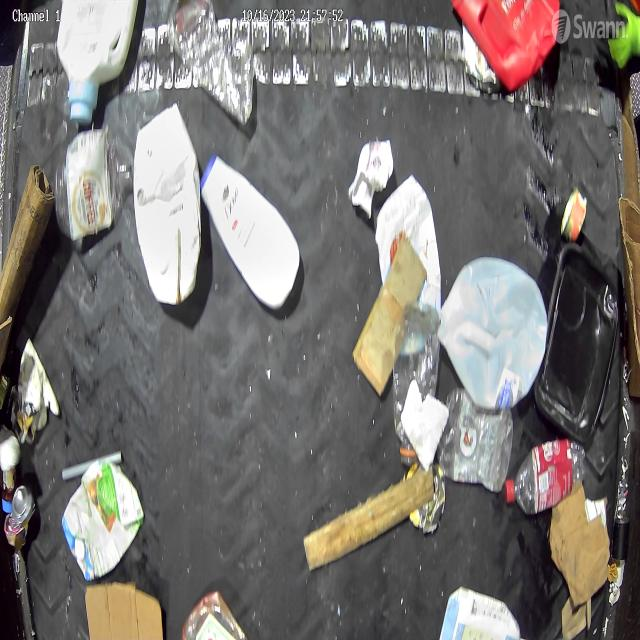can: (462, 34, 501, 94), (560, 187, 587, 244), (11, 483, 37, 527)
milk_jug: (438, 251, 548, 415), (132, 101, 202, 309), (57, 0, 140, 127)
non_white_jug: (450, 0, 562, 96)
plastic_bottle: (392, 299, 439, 470), (504, 441, 588, 518)
